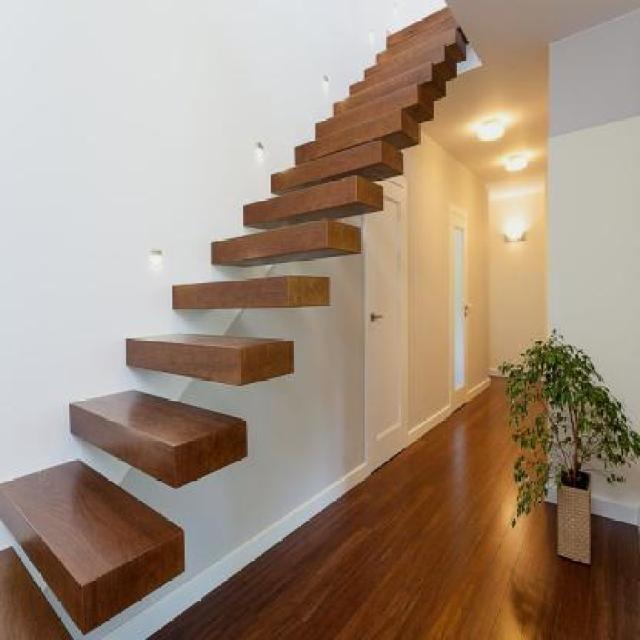stair: (1, 4, 492, 632)
